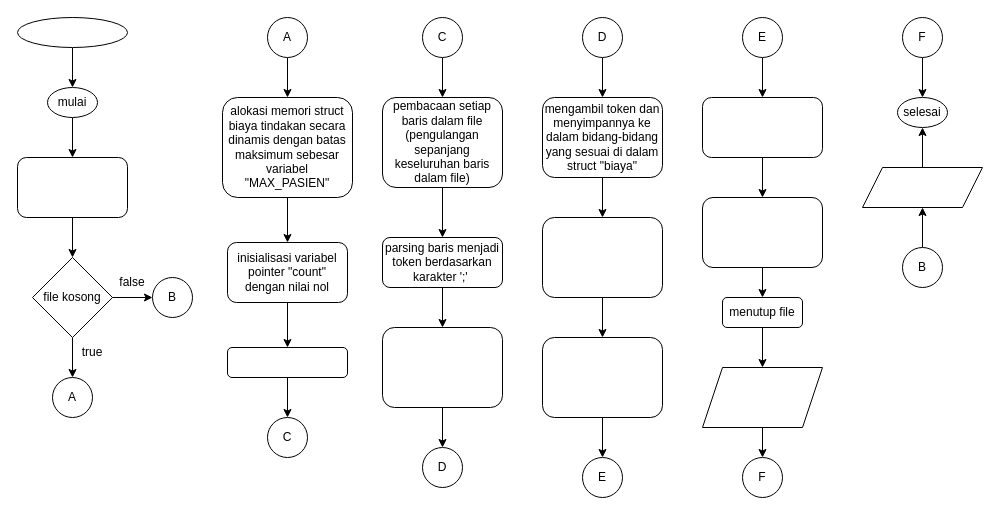
Some shapes in this 1000 by 515 pixel diagram are drawn without their labels. The box of each missing label's shape, as (x1, y1, x2, y2) in pixels:
deklarasi variabel "Biaya_Tindakan biaya" untuk menyimpan biaya tindakan: (382, 326, 502, 408)
membuka file csv biaya tindakan dalam mode baca: (16, 156, 128, 218)
memperbarui variabel "count" sebanyak jumlah baris yang telah dibaca: (702, 196, 822, 268)
menampilkan pesan error: (862, 166, 982, 208)
mengembalikan array of structs "biayaTindakan": (702, 366, 822, 428)
menggunakan fungsi "atof" untuk mengonversi token menjadi float (biaya): (542, 336, 662, 418)
menggunakan fungsi "atoi" untuk mengonversi token menjadi integer (nomor): (542, 216, 662, 298)
menyimpan biaya tindakan ke dalam array of structs "biayaTindakan": (702, 96, 822, 158)
readBiayaTindakan: (16, 16, 128, 48)
skip header dari file: (226, 346, 348, 378)
